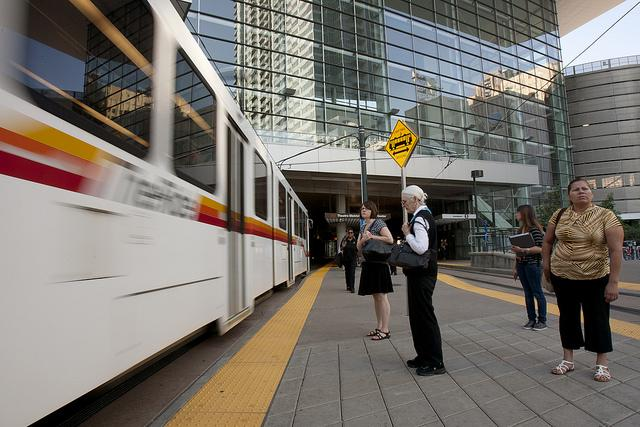Train: (0, 0, 320, 423)
